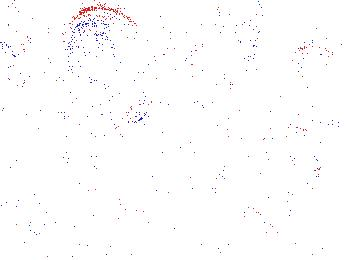moon jellyfish: (62, 8, 159, 129), (222, 128, 324, 203), (193, 1, 263, 93), (128, 1, 218, 61), (293, 46, 346, 126), (1, 1, 29, 60)
